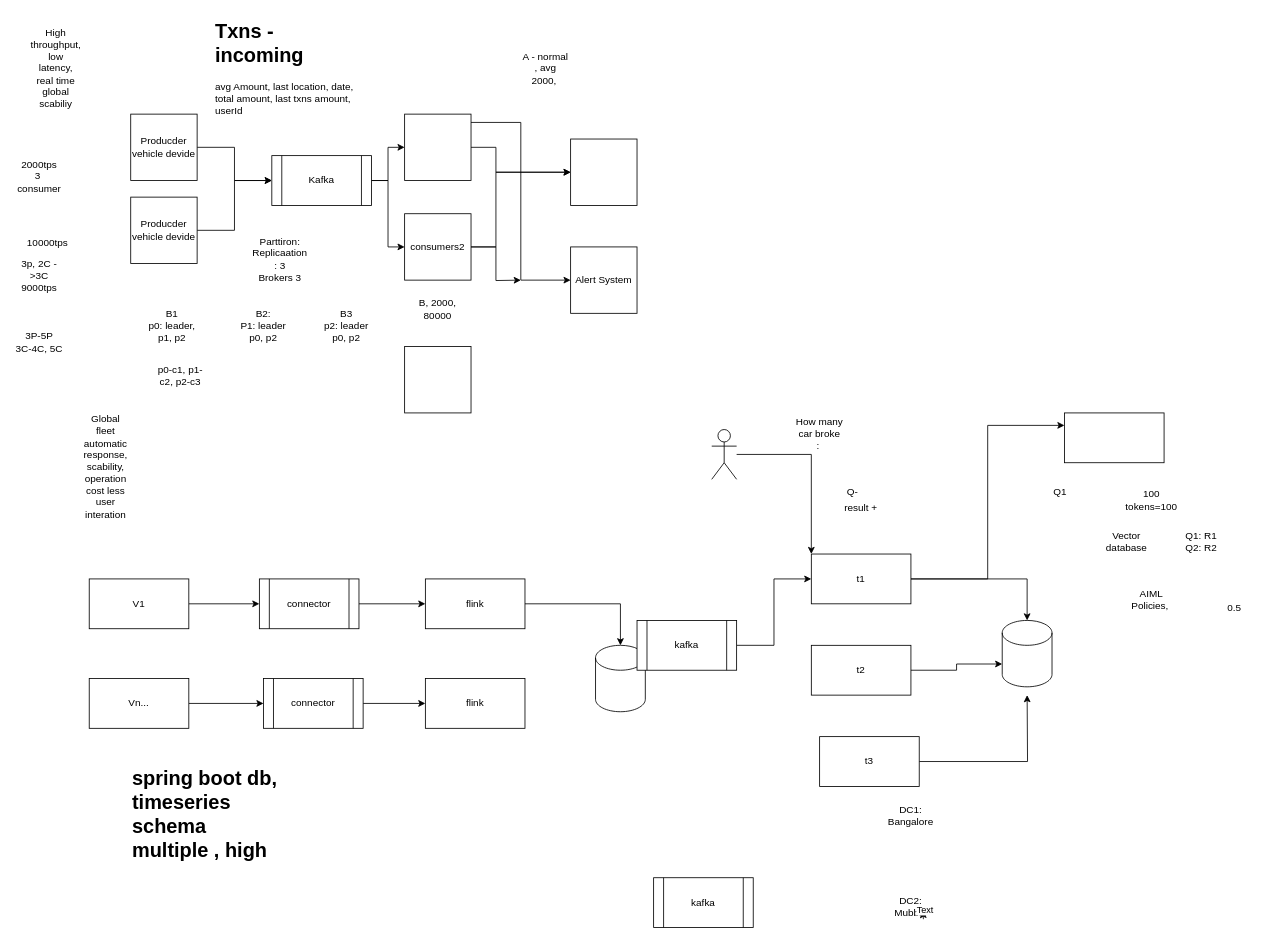
This 1273x942 diagram has some shape labels left out. Here are the shapes that lost their labels. From the top down, the centre of each, then its label:
At [437,147]: "consumers1".
At [603,171]: "AI".
At [437,379]: "consumers3".
At [724,454]: "Actor".
At [1114,437]: "LLM AI".
At [1026,653]: "TS".
At [620,678]: "OLAP".
